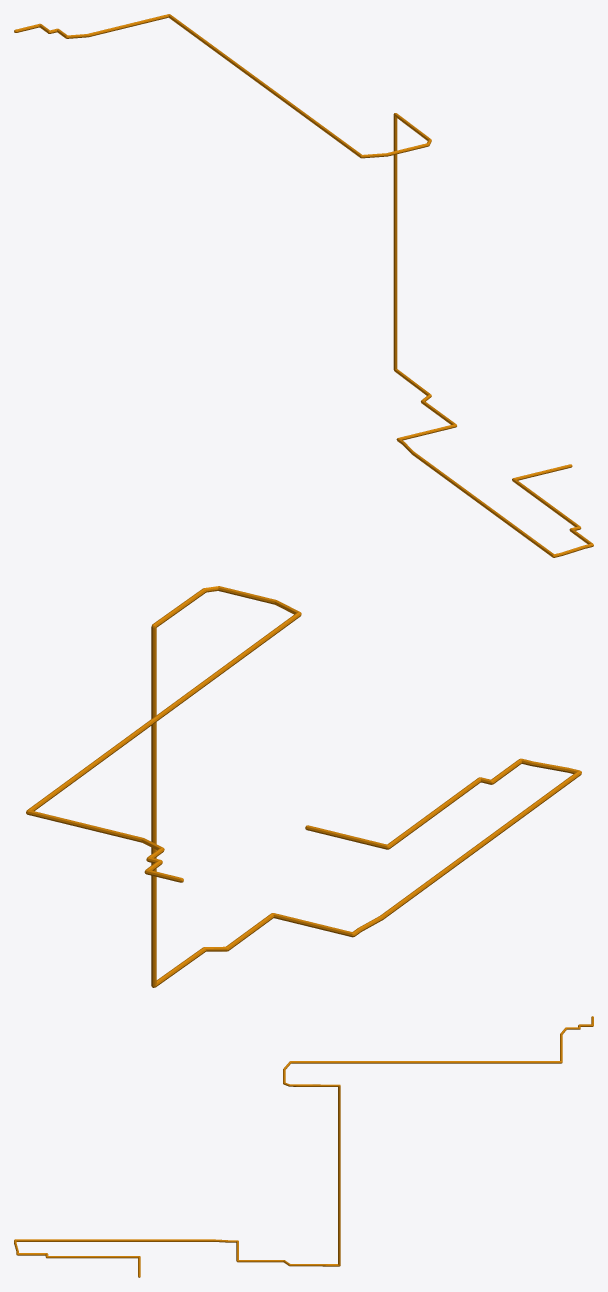
The picture shows the model from 3 angles, top to bottom: view 1: azimuth 30°, elevation 25°; view 2: azimuth 150°, elevation 25°; view 3: azimuth 270°, elevation 25°; orthographic projection. The views are drawn at different scales.
Size of the model in its own units: 1450 by 1520 by 4393.
